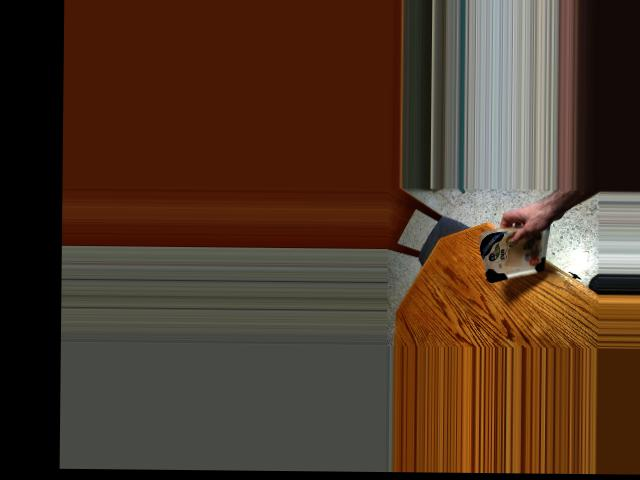cheese: (476, 222, 561, 278)
